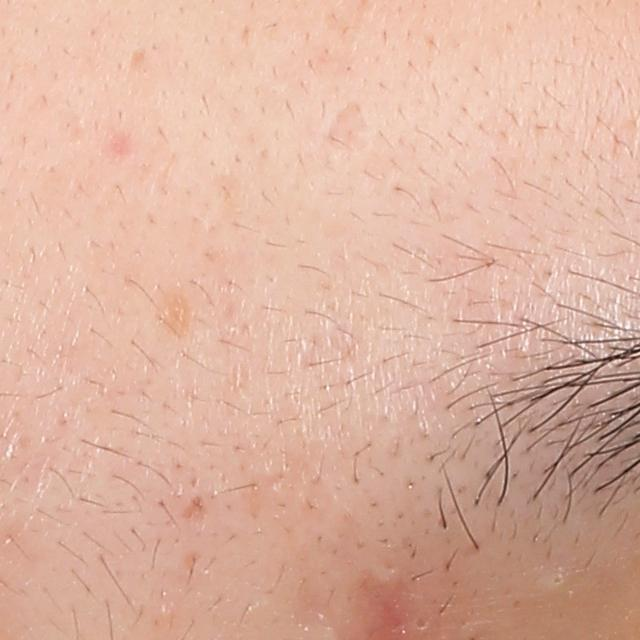atrophic_scar: (319, 103, 378, 157), (104, 130, 142, 166), (181, 494, 208, 526)
comedo: (540, 570, 572, 595), (410, 615, 433, 634)
